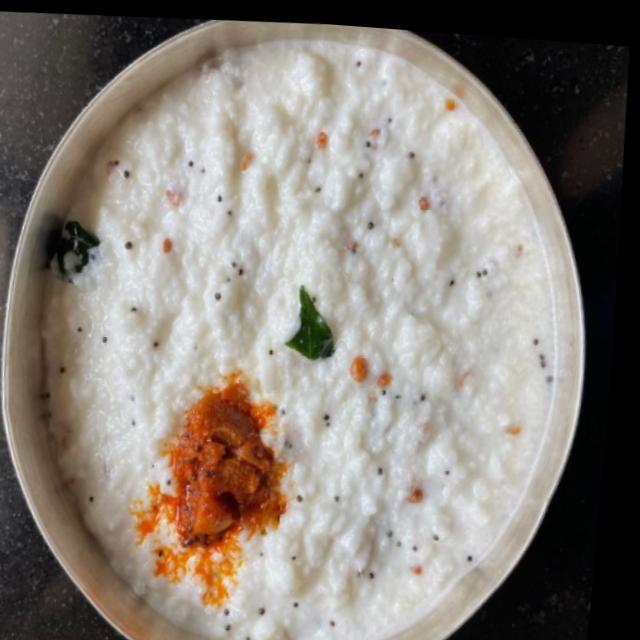CURD RICE: (37, 37, 557, 640)
